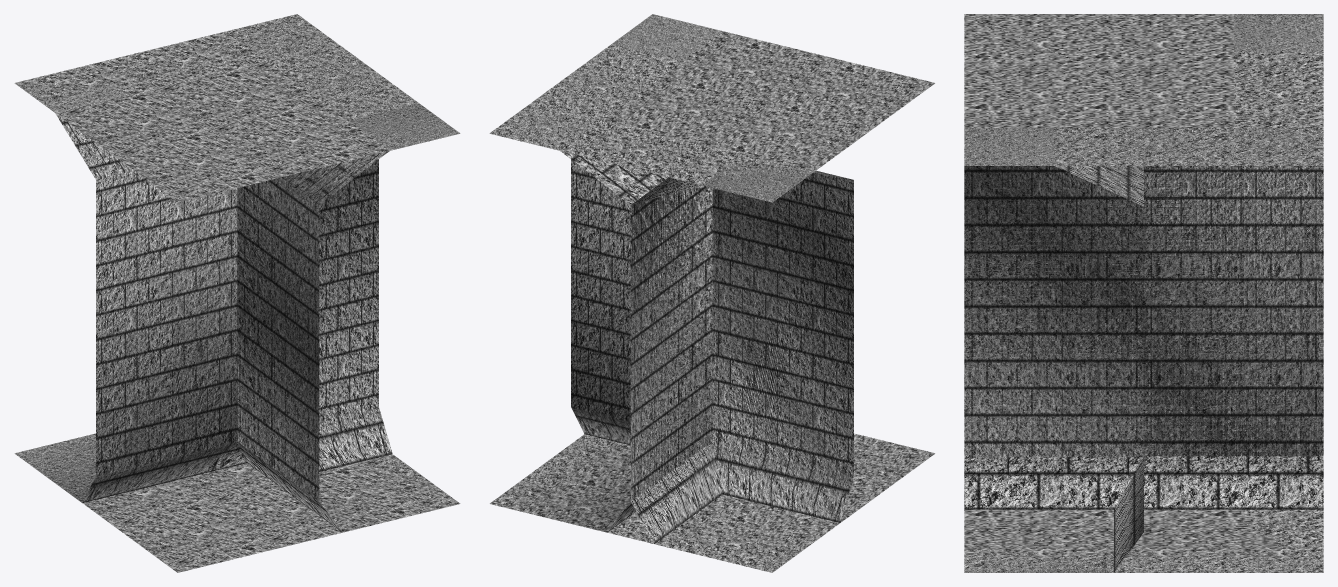
Rendered from TUNNEL-PARTS-minimum-bl249.fbx.
3 views of the same model, side by side, from view 1: azimuth 30°, elevation 25°; view 2: azimuth 150°, elevation 25°; view 3: azimuth 270°, elevation 25° (orthographic). The views are drawn at different scales.
Visible parts, largest first — view 1: 0XX0, 0000, X0X0, 00X0; view 2: 0XX0, 0000, X0X0, 00X0; view 3: 0XX0, X0X0, 0000, 00X0.
Boxes of the visible parts, x1=… form: 0XX0: x1=14, y1=79, x2=460, y2=504; 0000: x1=15, y1=14, x2=459, y2=572; X0X0: x1=228, y1=14, x2=459, y2=532; 00X0: x1=15, y1=16, x2=458, y2=531; 0XX0: x1=571, y1=14, x2=853, y2=572; 0000: x1=490, y1=14, x2=935, y2=572; X0X0: x1=489, y1=14, x2=722, y2=532; 00X0: x1=494, y1=14, x2=853, y2=572; 0XX0: x1=964, y1=14, x2=1323, y2=572; X0X0: x1=964, y1=128, x2=1323, y2=572; 0000: x1=964, y1=14, x2=1323, y2=572; 00X0: x1=964, y1=15, x2=1323, y2=572.
Size of the model in its own units: 2 by 2.5 by 2.
